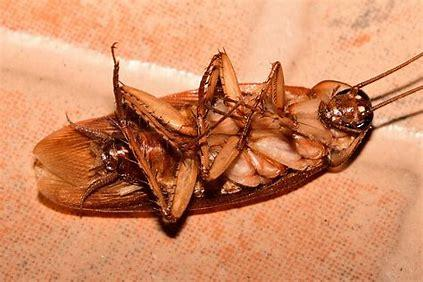cockroach: (15, 41, 423, 227)
